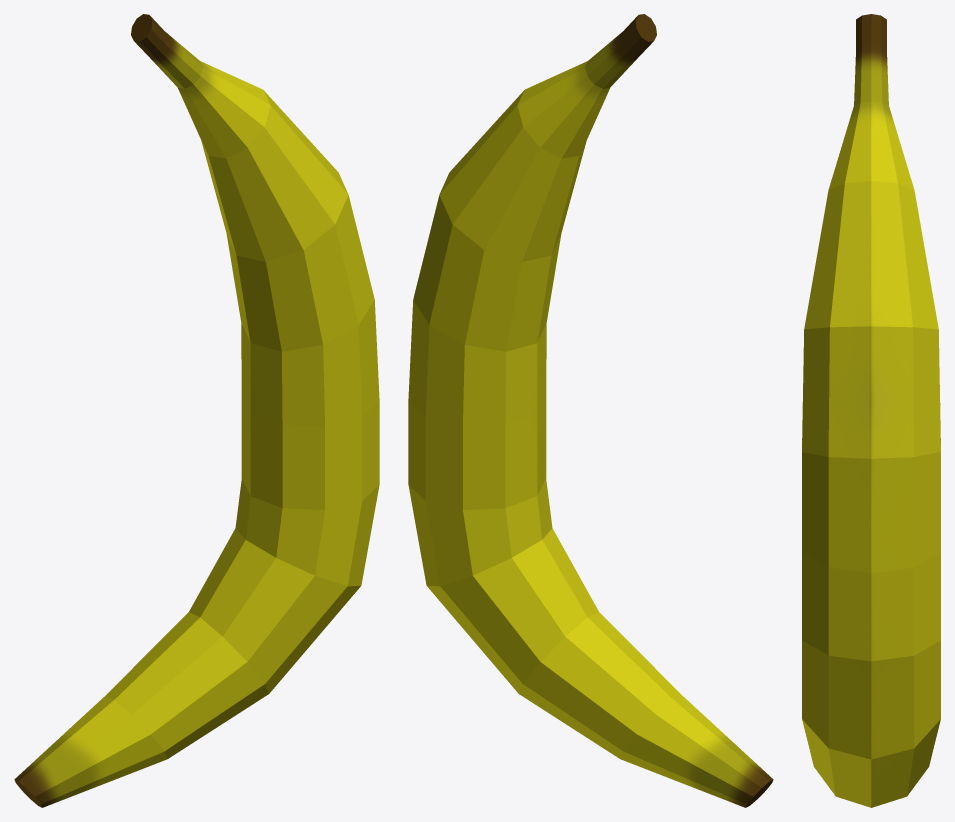
The model's file is pisang.fbx.
3 views of the same model, side by side, from view 1: azimuth 30°, elevation 25°; view 2: azimuth 150°, elevation 25°; view 3: azimuth 270°, elevation 25° (orthographic). The views are drawn at different scales.
Parts seen in each view (by area): view 1: pisang; view 2: pisang; view 3: pisang.
Boxes of the visible parts, x1,y1,x2,y2 form: pisang: [14, 14, 379, 807]; pisang: [408, 14, 773, 807]; pisang: [802, 14, 940, 807].
Bounding box in the file's own units: 27.1 × 8.78 × 56.17.
Materials: 1 (1 with a texture image).
